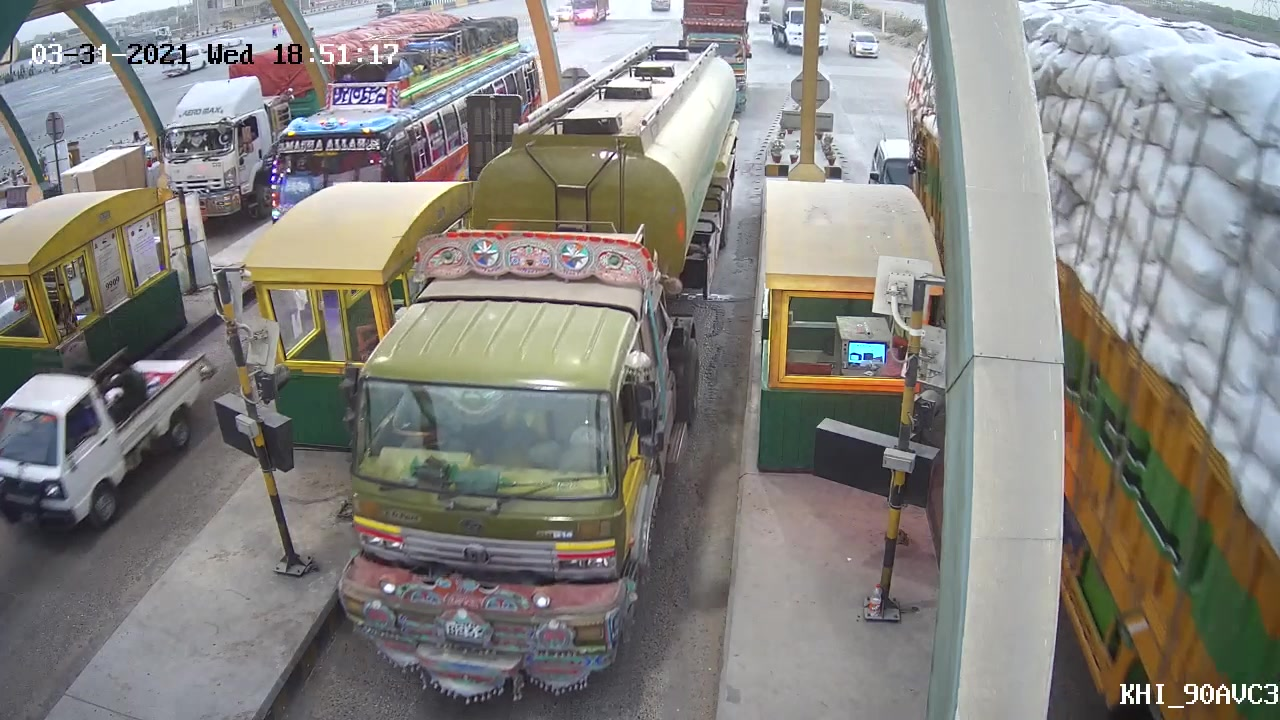F6: (323, 41, 749, 709)
